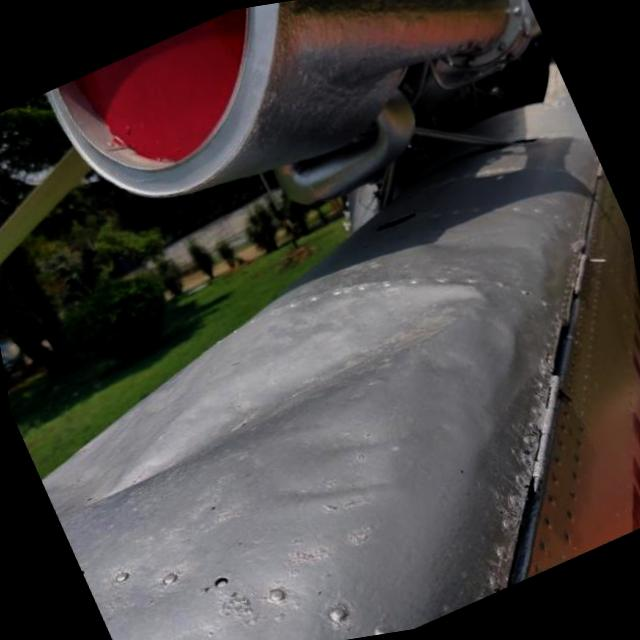dent: (34, 234, 522, 508), (239, 376, 442, 560)
